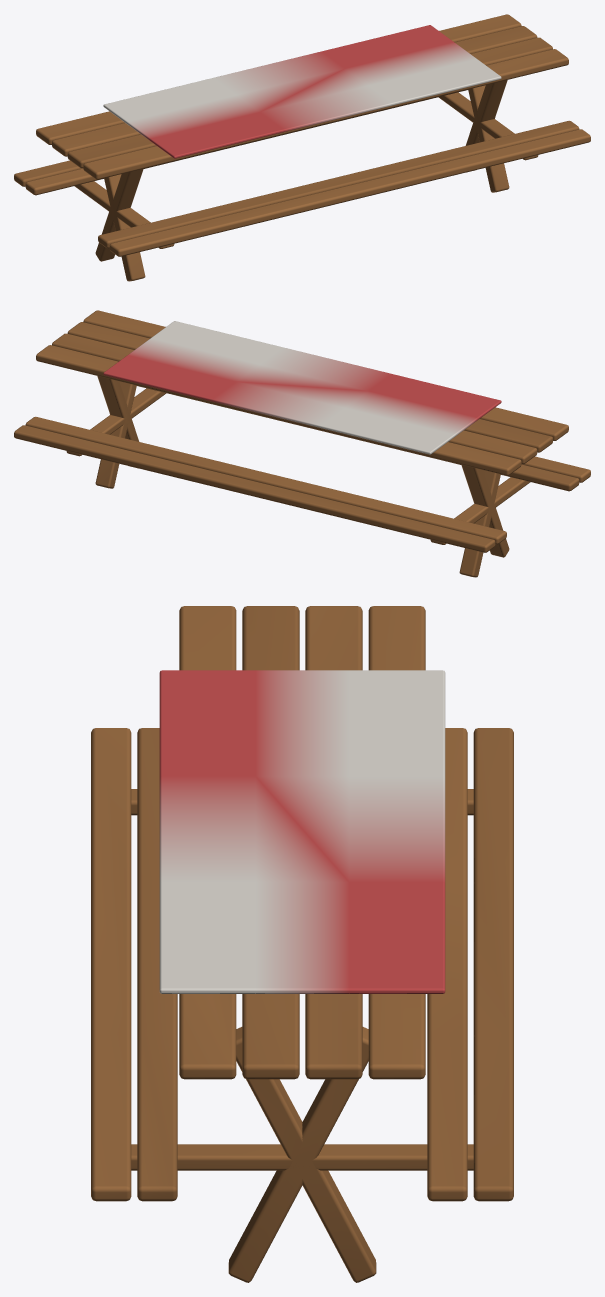
Rendered from furn_dp_picnic.glb.
The picture shows the model from 3 angles, top to bottom: view 1: azimuth 30°, elevation 25°; view 2: azimuth 150°, elevation 25°; view 3: azimuth 270°, elevation 25°; orthographic projection. The views are drawn at different scales.
Parts seen in each view (by area): view 1: furn_dp_picnic_main; view 2: furn_dp_picnic_main; view 3: furn_dp_picnic_main.
Boxes of the visible parts, x1=… form: furn_dp_picnic_main: x1=14, y1=14, x2=590, y2=281; furn_dp_picnic_main: x1=14, y1=310, x2=590, y2=577; furn_dp_picnic_main: x1=91, y1=606, x2=513, y2=1282.
Bounding box in the file's own units: 2.6 × 0.7093 × 1.01.
